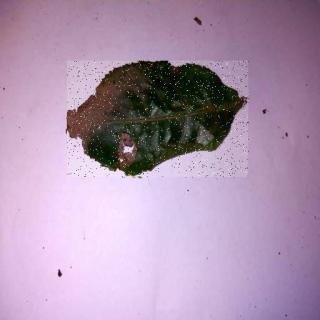Anthracnose: (69, 62, 251, 179)
